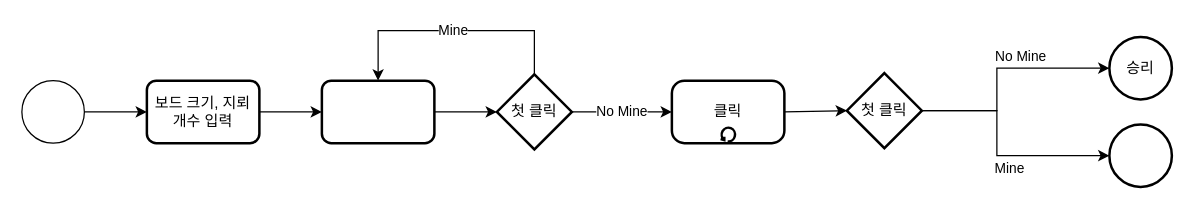
Some shapes in this 1195 by 210 pixel diagram are drawn without their labels. Here are the shapes that lost their labels. From the top down, the centre of each, then its label:
At (x=52, y=111): "Start".
At (x=377, y=111): "Game Start 버튼을 통한 보드 생성".
At (x=1140, y=155): "패배".
